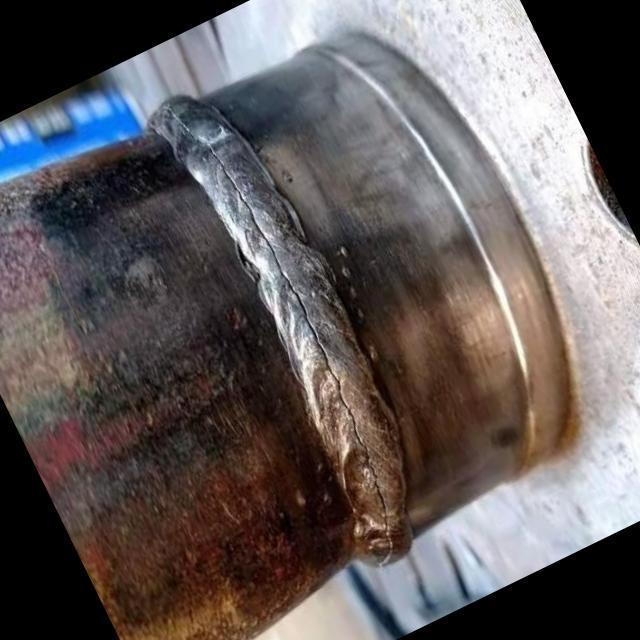defect: (161, 103, 394, 570)
